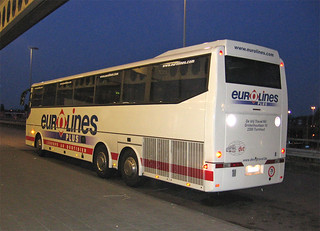bus: (19, 39, 288, 193)
